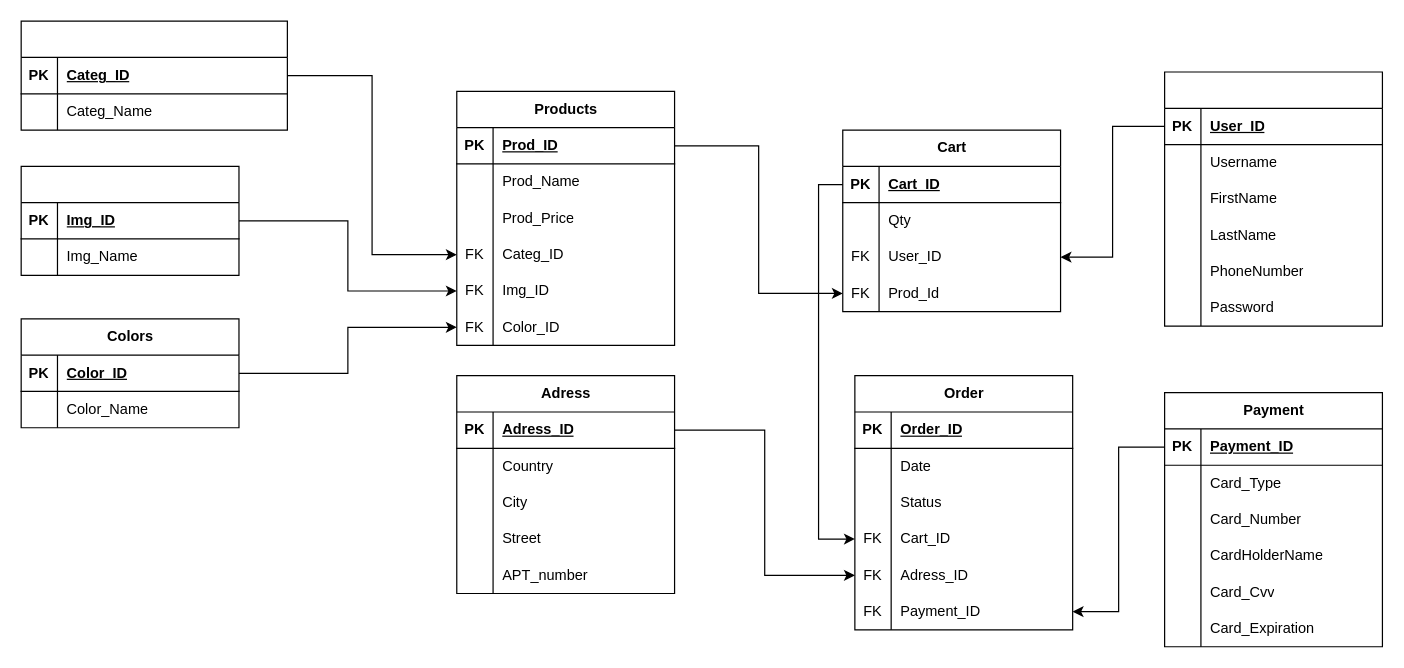
Some shapes in this 1404 by 668 pixel diagram are drawn without their labels. Each missing label, with the box of its shape:
Category: (20, 20, 287, 130)
Images: (20, 165, 239, 275)
Users: (1163, 71, 1382, 326)
